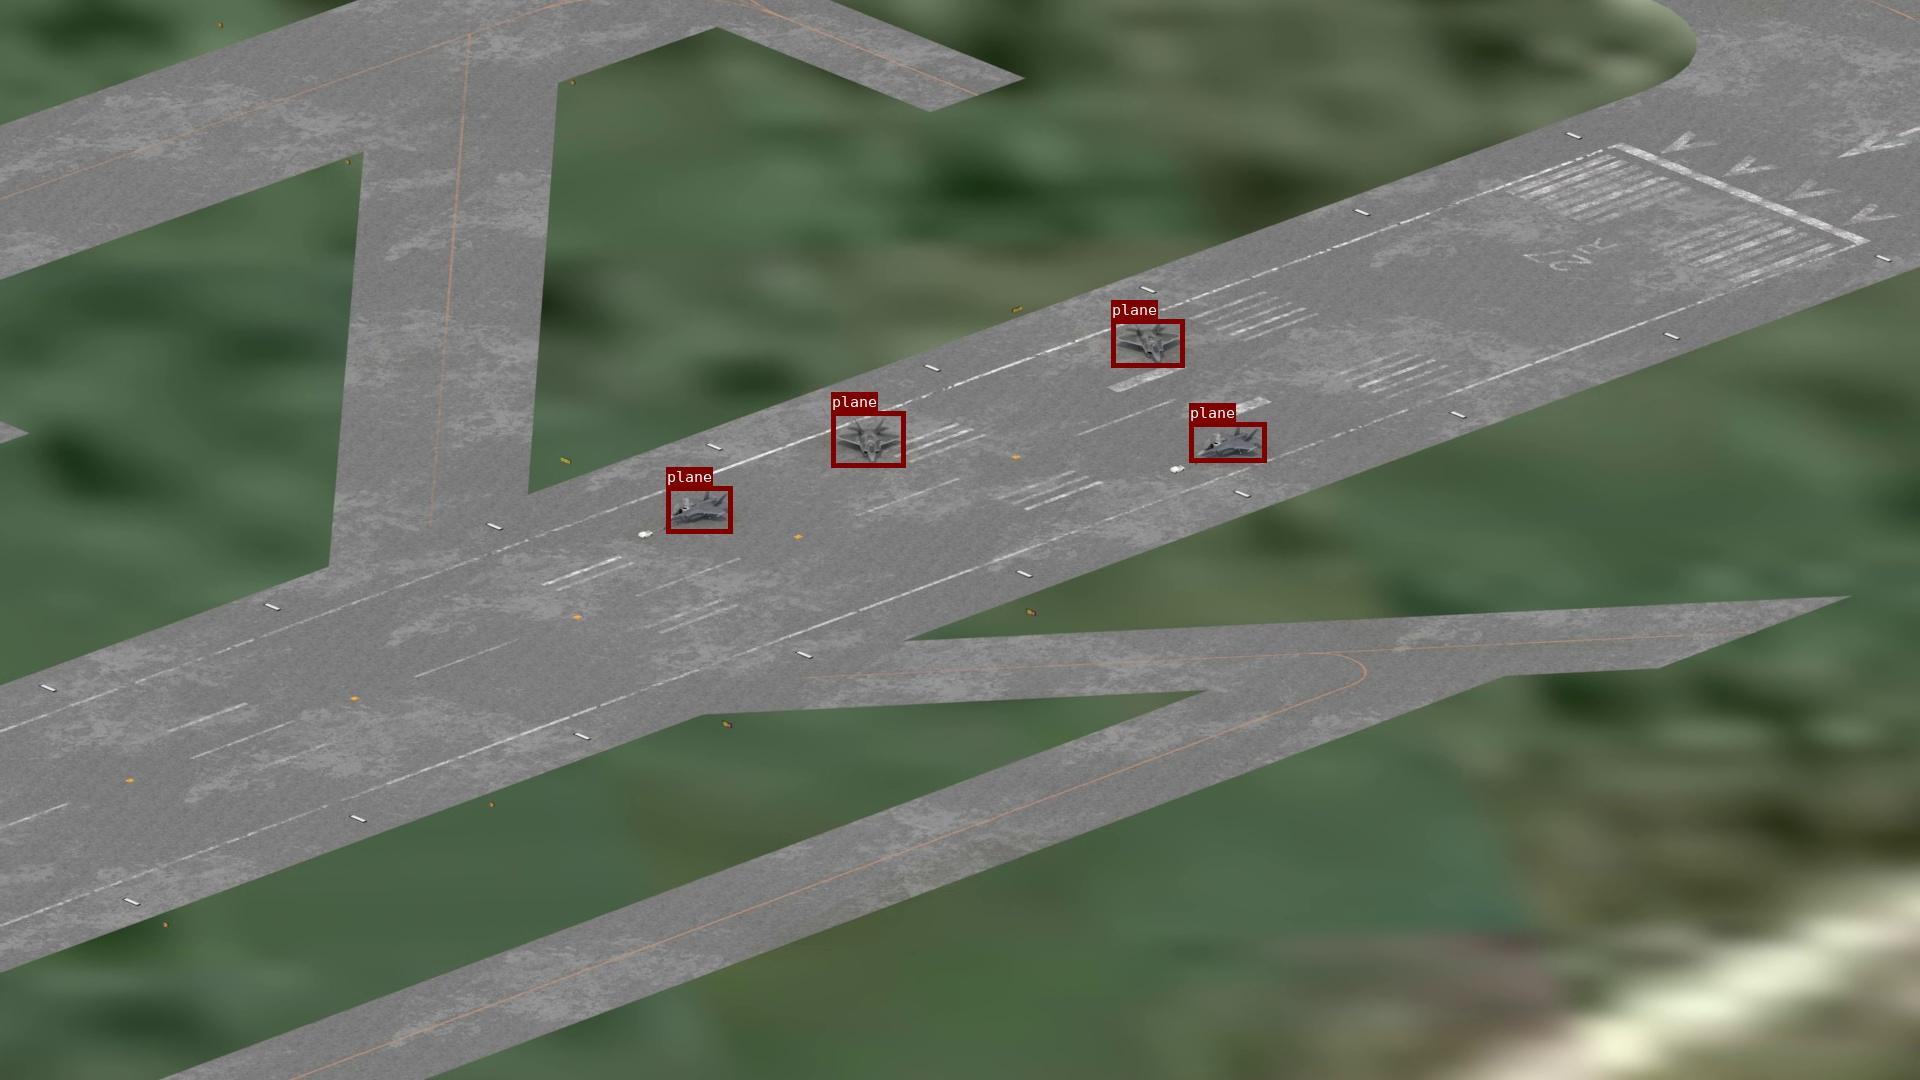plane: (831, 411, 905, 467), (1112, 319, 1184, 367), (666, 487, 732, 533), (1189, 422, 1266, 462)
